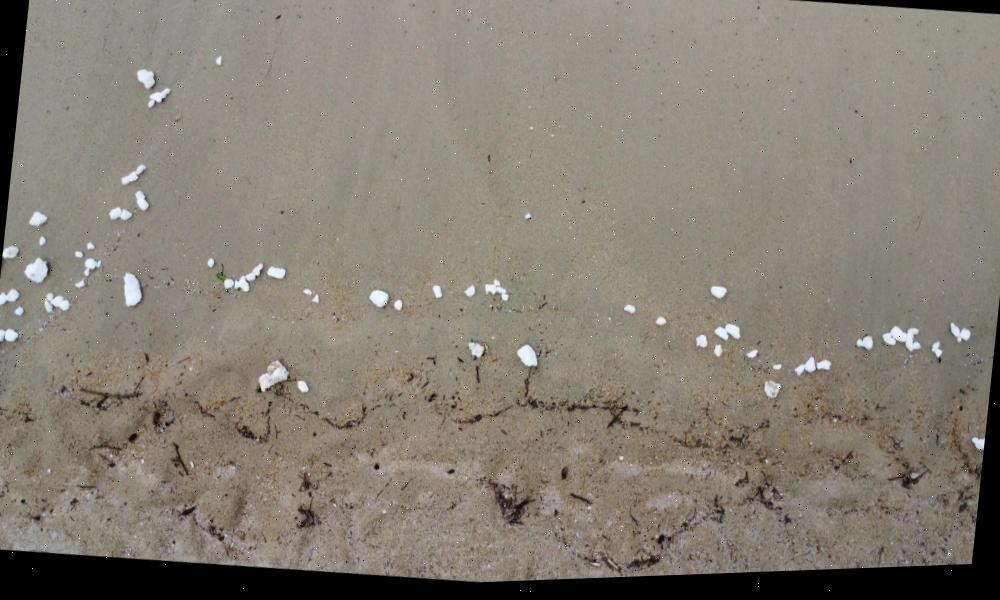styrofoam: (453, 331, 565, 389), (686, 274, 750, 373), (412, 274, 525, 324), (197, 255, 291, 302), (888, 306, 933, 388), (740, 346, 792, 412), (922, 325, 982, 382), (127, 61, 178, 122), (251, 352, 292, 424), (114, 166, 154, 232), (605, 307, 687, 339), (828, 332, 892, 366), (775, 365, 844, 394), (361, 288, 412, 325), (116, 273, 149, 313), (0, 278, 25, 317), (22, 253, 54, 283), (34, 293, 76, 315), (72, 243, 92, 288), (0, 325, 33, 351), (2, 231, 27, 264), (23, 212, 60, 229)
